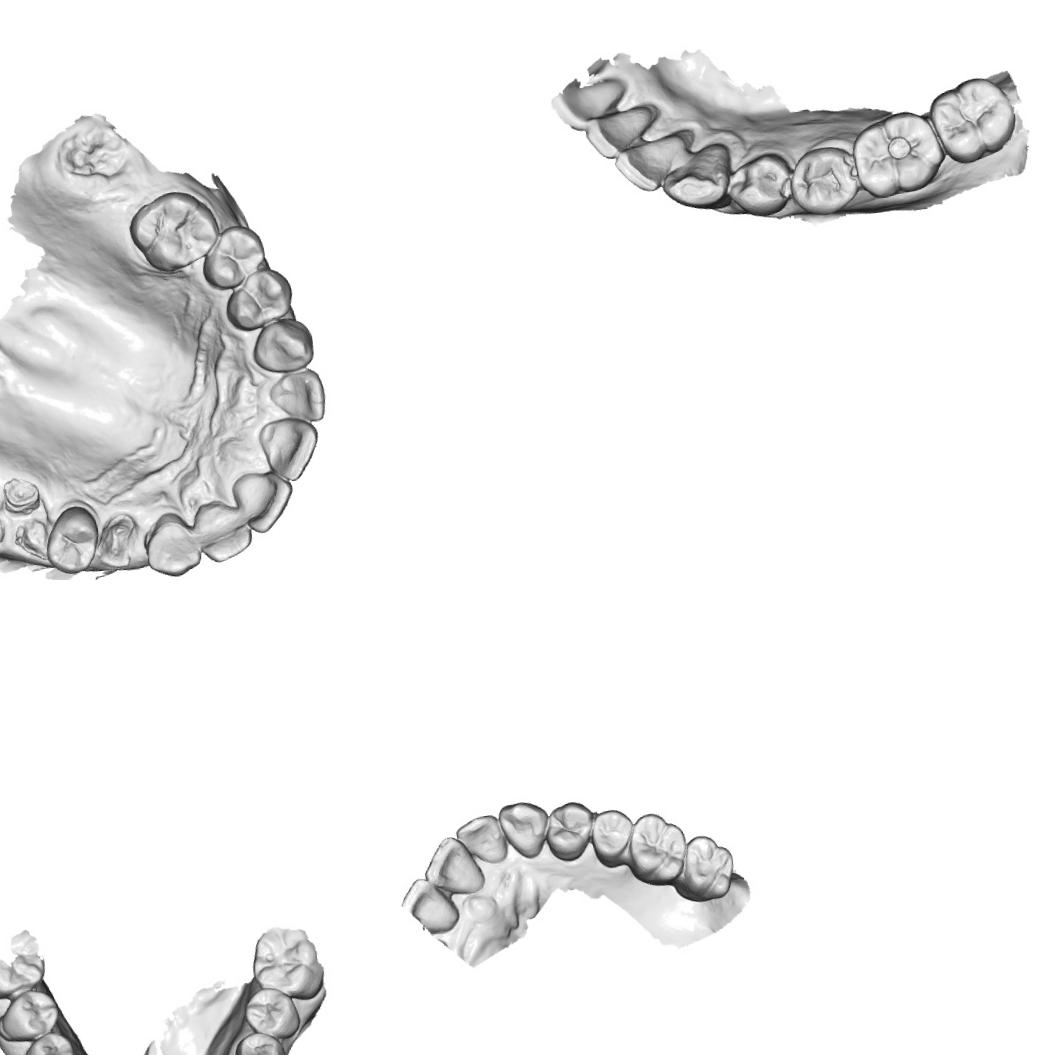canine: (656, 139, 733, 216), (142, 510, 204, 580), (248, 316, 316, 376), (496, 796, 554, 863)
incisor: (610, 129, 691, 197), (549, 75, 632, 134), (418, 831, 488, 900), (256, 414, 324, 484), (230, 466, 298, 536), (580, 104, 659, 160), (396, 874, 464, 938), (264, 366, 329, 426), (192, 509, 256, 566), (452, 811, 510, 868)
molar: (848, 107, 946, 202), (125, 186, 224, 277), (927, 72, 1020, 166), (247, 922, 327, 1006), (622, 808, 691, 890), (666, 830, 740, 906)
premolar: (220, 265, 296, 334), (197, 222, 269, 292), (790, 144, 858, 216), (722, 150, 794, 218), (40, 502, 104, 577), (240, 982, 304, 1044), (540, 797, 596, 866), (0, 986, 63, 1045), (586, 805, 637, 871), (229, 1027, 287, 1055), (17, 1030, 80, 1055)
